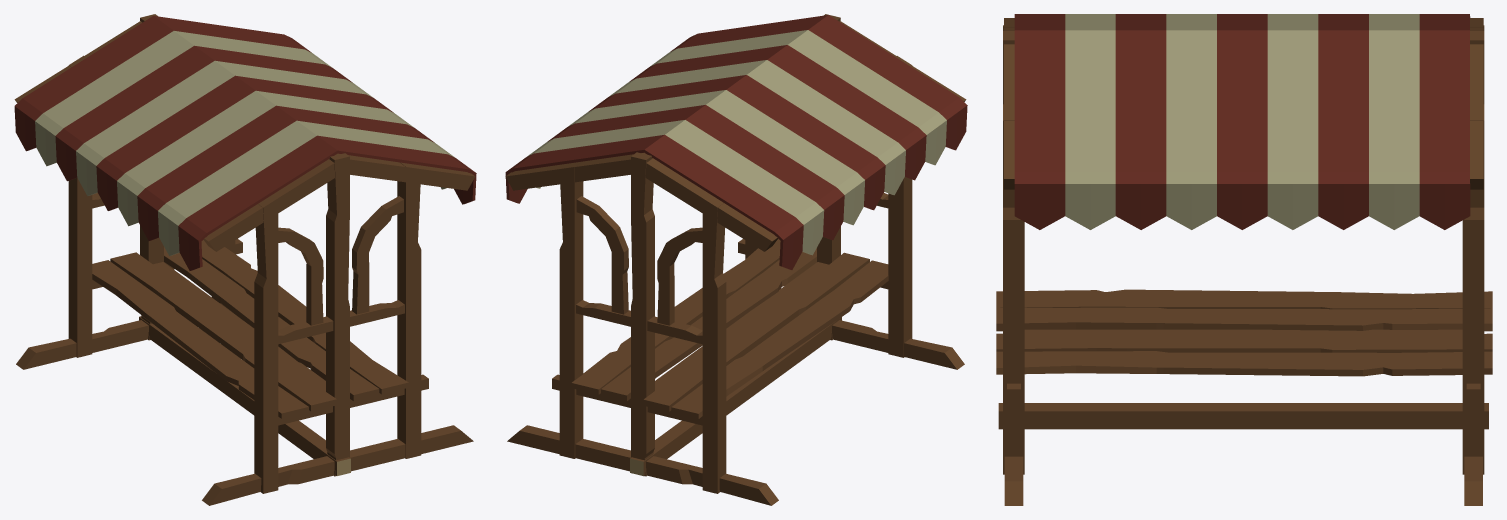
Rendered from prop_pasar_stall.fbx.
3 views of the same model, side by side, from view 1: azimuth 30°, elevation 25°; view 2: azimuth 150°, elevation 25°; view 3: azimuth 270°, elevation 25° (orthographic). The views are drawn at different scales.
Parts seen in each view (by area): view 1: prop_pasar_stall; view 2: prop_pasar_stall; view 3: prop_pasar_stall.
Part boxes in pixels (x1,y1,x2,y2): prop_pasar_stall: (14,14,476,505); prop_pasar_stall: (505,14,967,505); prop_pasar_stall: (996,14,1492,505).
Size of the model in its own units: 2.4 by 2.65 by 3.
Materials: 1 (1 with a texture image).
